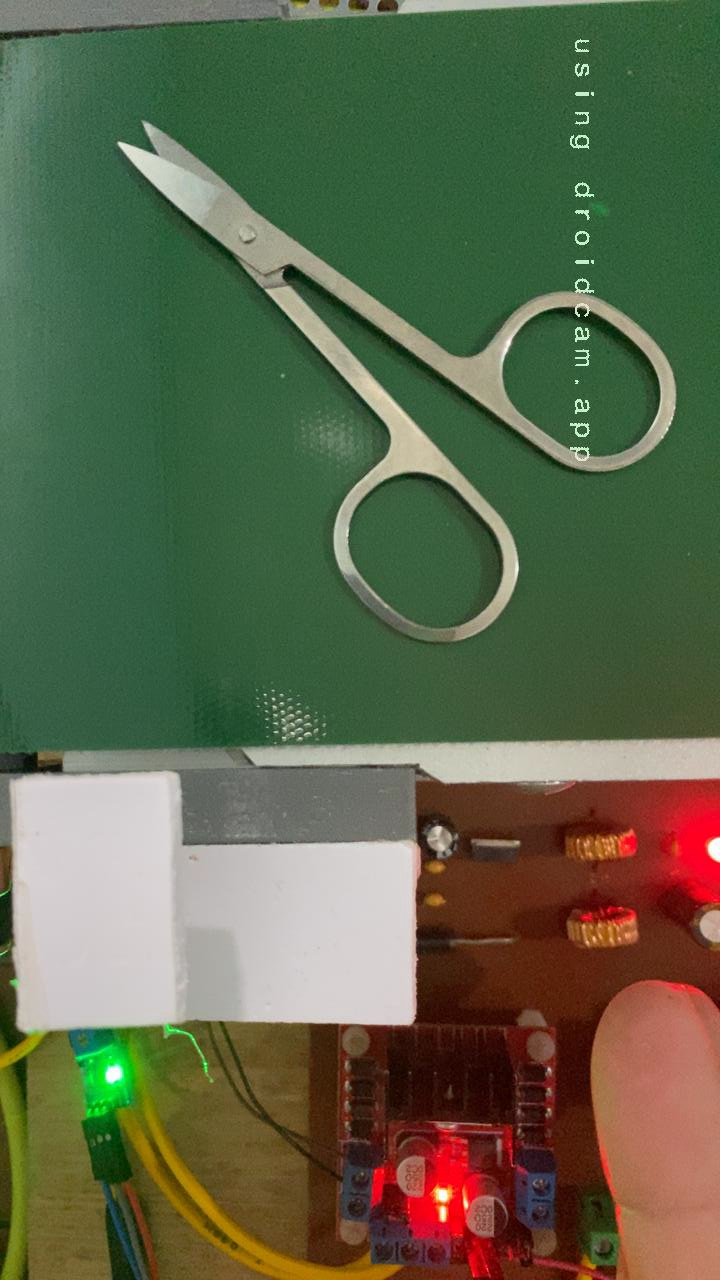scissor: (112, 116, 684, 649)
